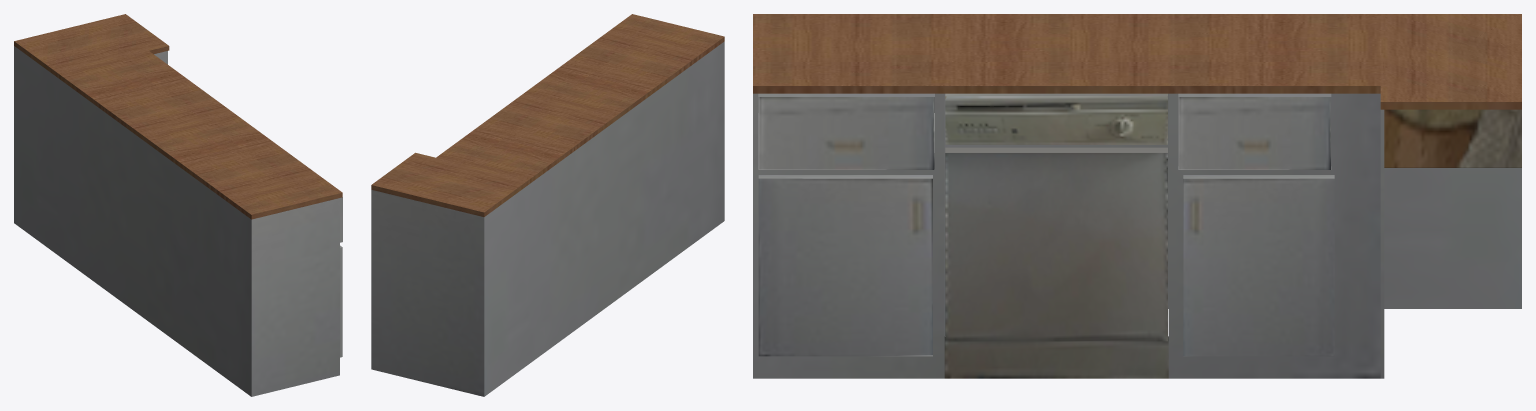
The model's file is kitchen_countertop_2.FBX.
3 views of the same model, side by side, from view 1: azimuth 30°, elevation 25°; view 2: azimuth 150°, elevation 25°; view 3: azimuth 270°, elevation 25° (orthographic). The views are drawn at different scales.
Visible parts, largest first — view 1: cupboard, cupboard_door_2; view 2: cupboard; view 3: cupboard, dishwasher_door, cupboard_door_2, cupboard_door_3, cupboard_drawer_2, cupboard_drawer_3.
Part boxes in pixels (x1=…): cupboard: x1=14, y1=14, x2=342, y2=396; cupboard_door_2: x1=340, y1=245, x2=342, y2=357; cupboard: x1=371, y1=14, x2=724, y2=396; cupboard: x1=753, y1=14, x2=1521, y2=378; dishwasher_door: x1=945, y1=147, x2=1167, y2=341; cupboard_door_2: x1=758, y1=175, x2=932, y2=356; cupboard_door_3: x1=1183, y1=175, x2=1334, y2=356; cupboard_drawer_2: x1=758, y1=93, x2=934, y2=169; cupboard_drawer_3: x1=1178, y1=93, x2=1331, y2=169.
Size of the model in its own units: 38.72 by 60.39 by 143.
